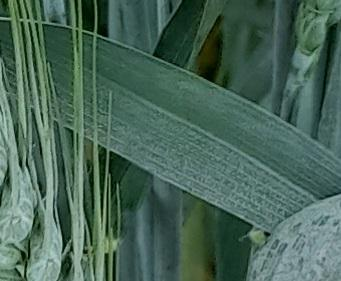Wheat: (88, 48, 176, 163), (236, 139, 341, 214), (185, 94, 232, 189)
